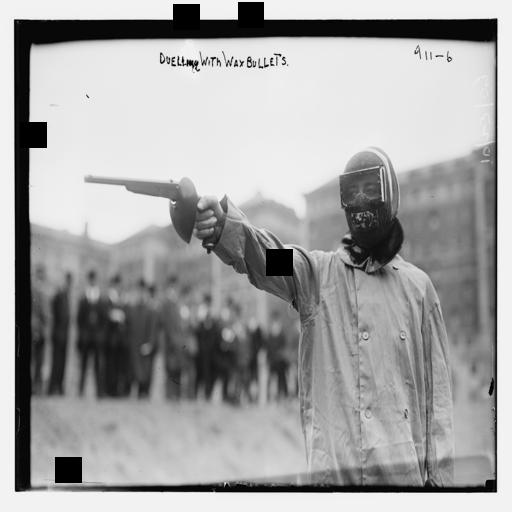Handgun: (82, 171, 195, 240)
